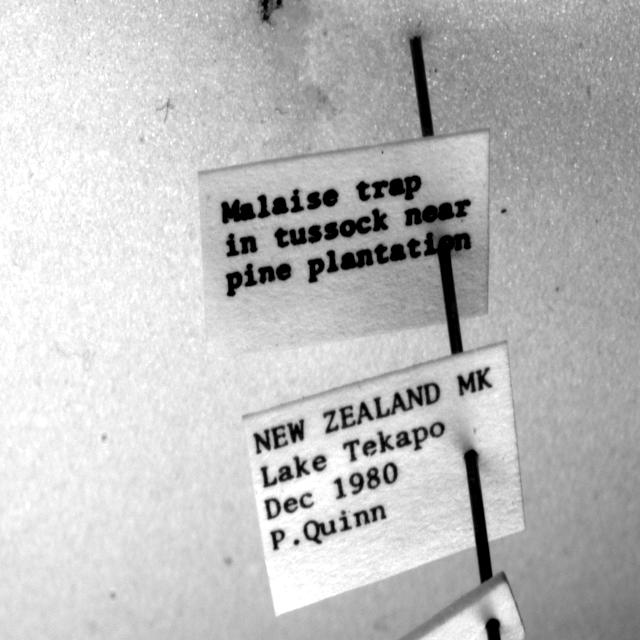typed_label: (244, 343, 525, 615), (199, 131, 489, 360)
